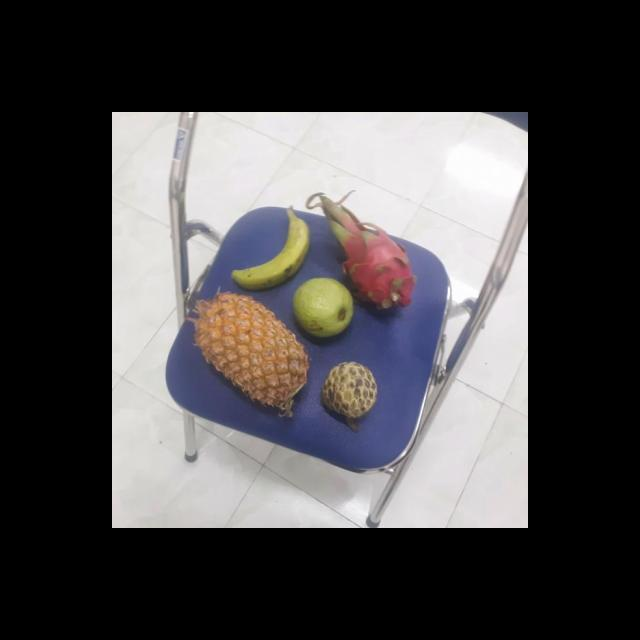Sakya fruit: (316, 361, 378, 420)
banana: (226, 208, 308, 288)
guava: (290, 276, 356, 336)
pineapple: (189, 292, 309, 416)
pitaya: (320, 211, 413, 311)
